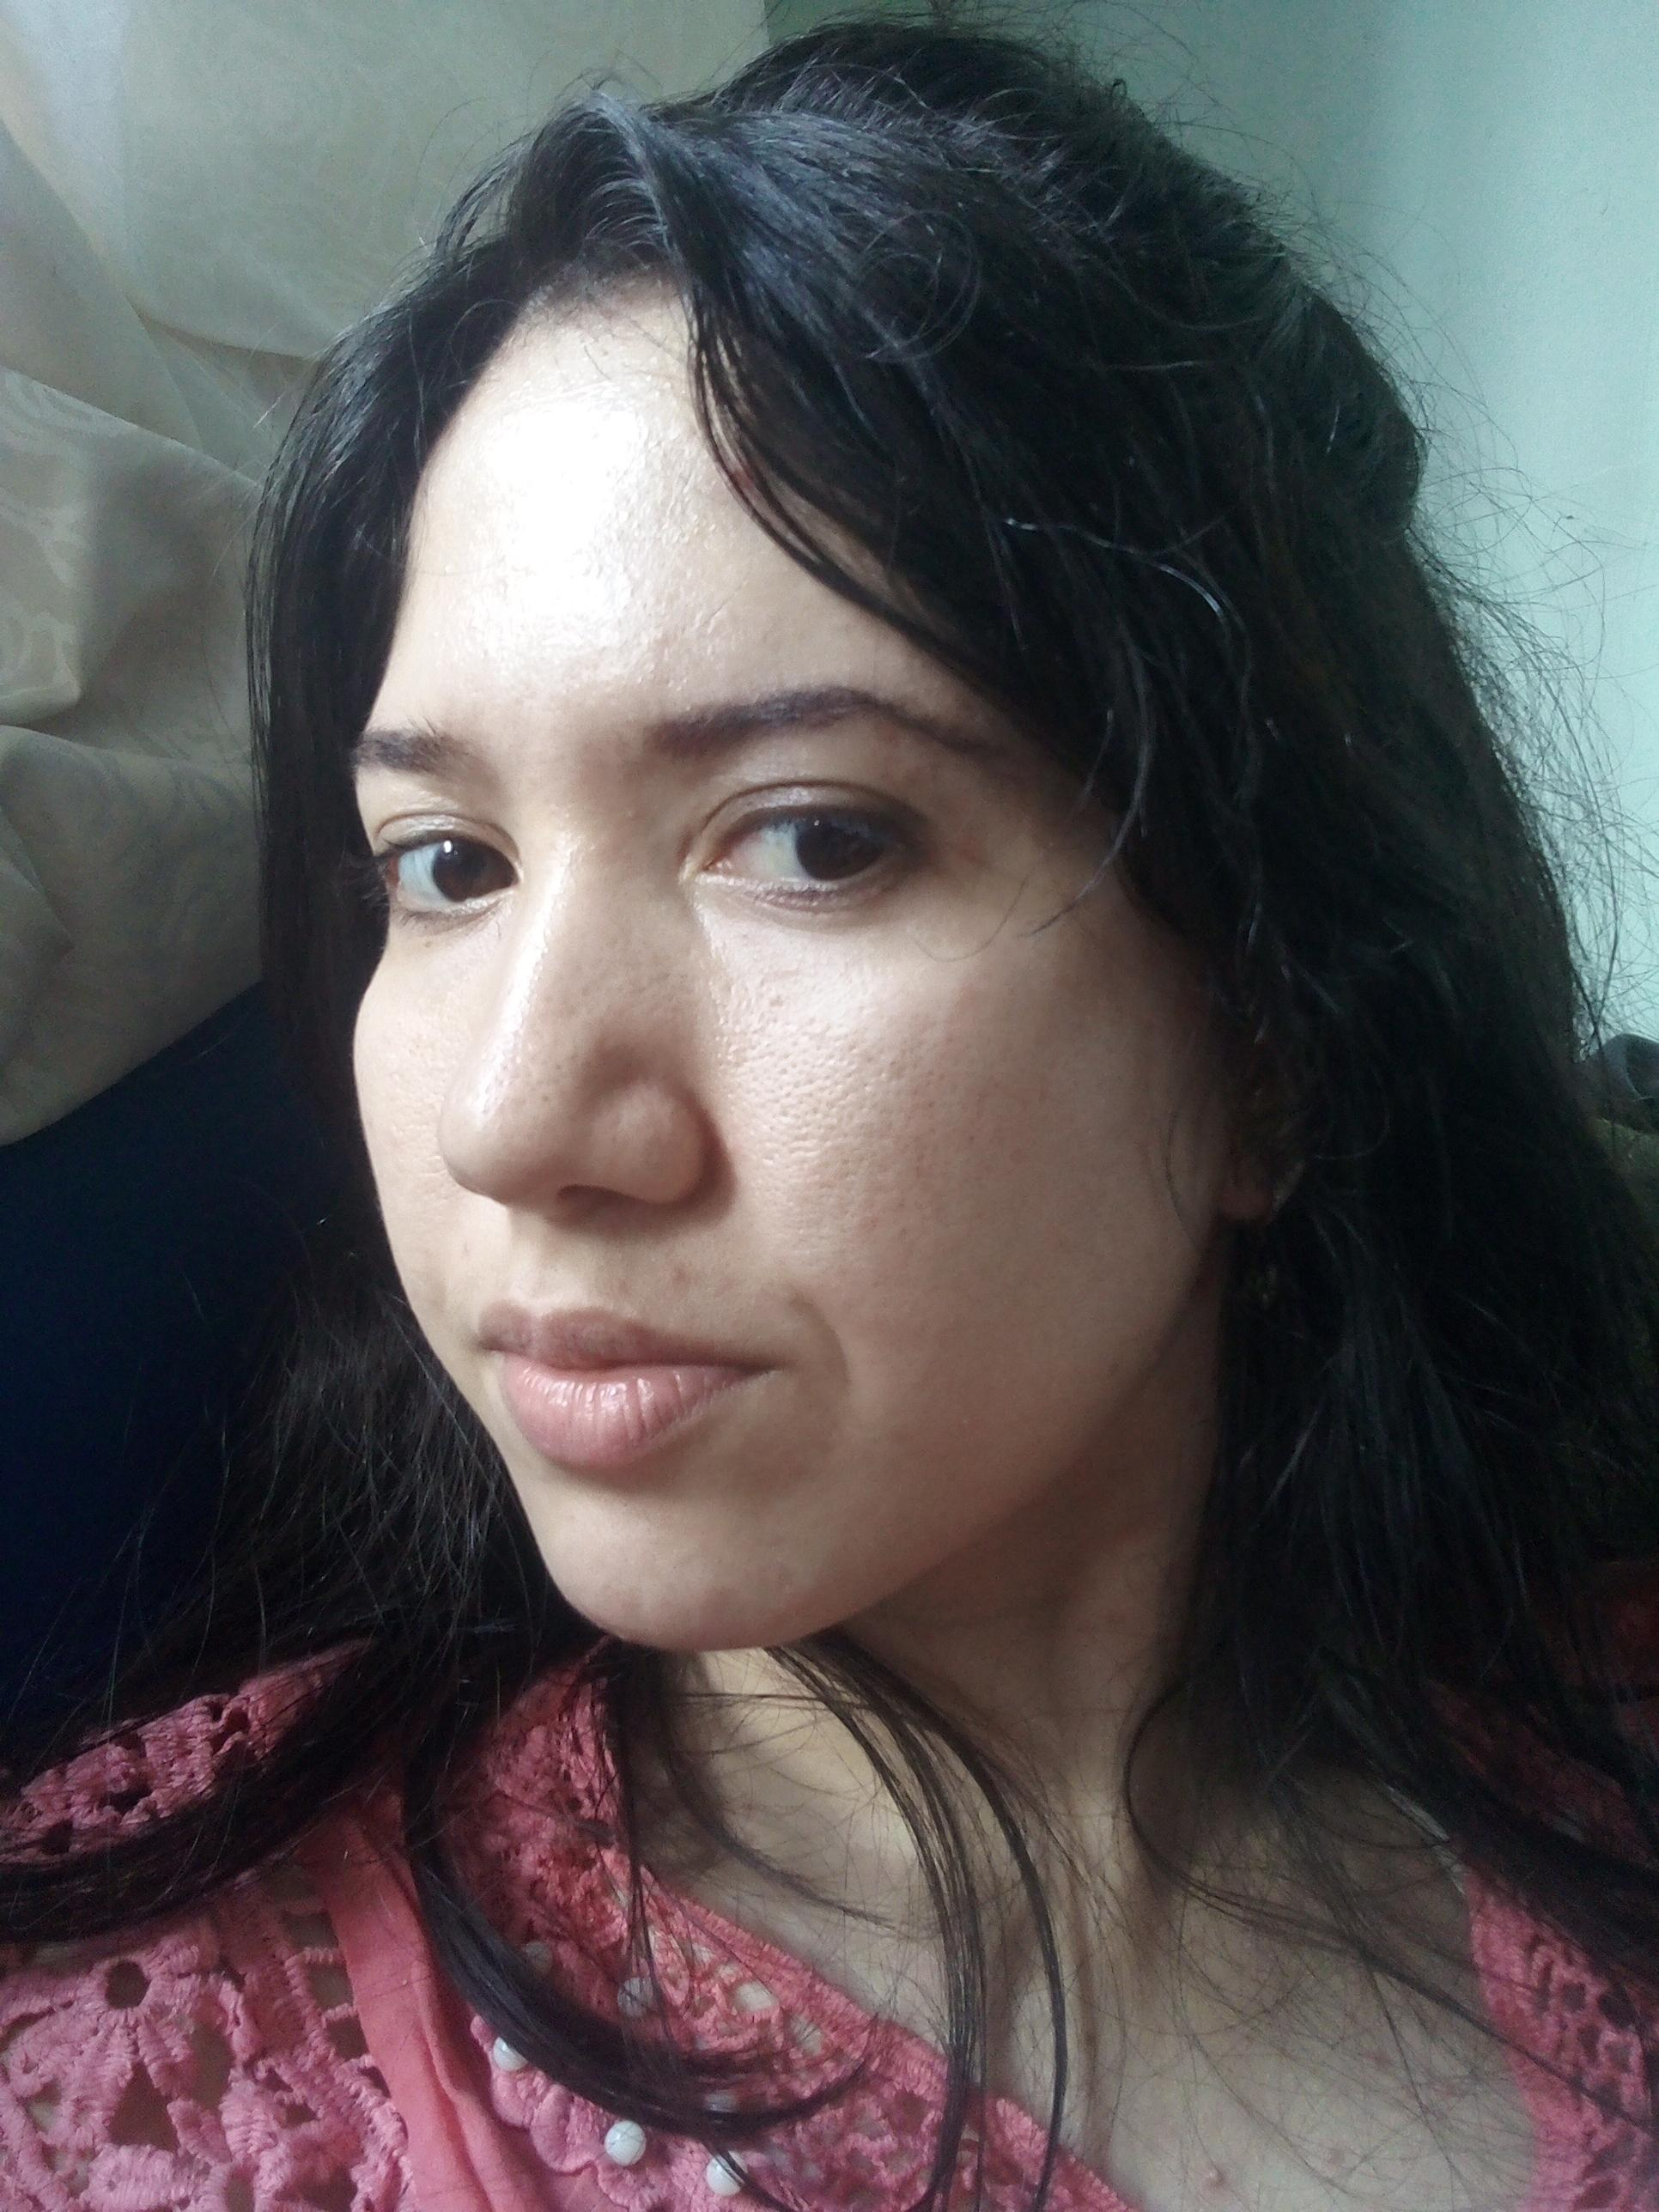Acne: (1068, 1352, 1119, 1395), (704, 1587, 739, 1622), (885, 1418, 911, 1453), (760, 981, 786, 1010), (667, 1259, 692, 1291)
Blackheads: (472, 988, 570, 1144)
Englarged-Pores: (706, 970, 948, 1299), (394, 1038, 453, 1198)
